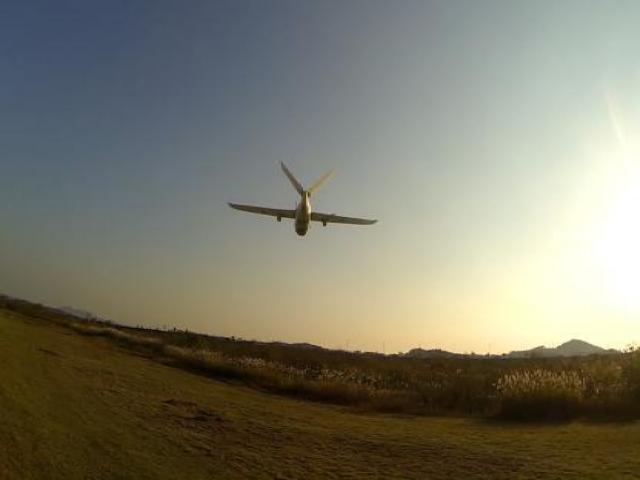uav: (217, 149, 383, 246)
